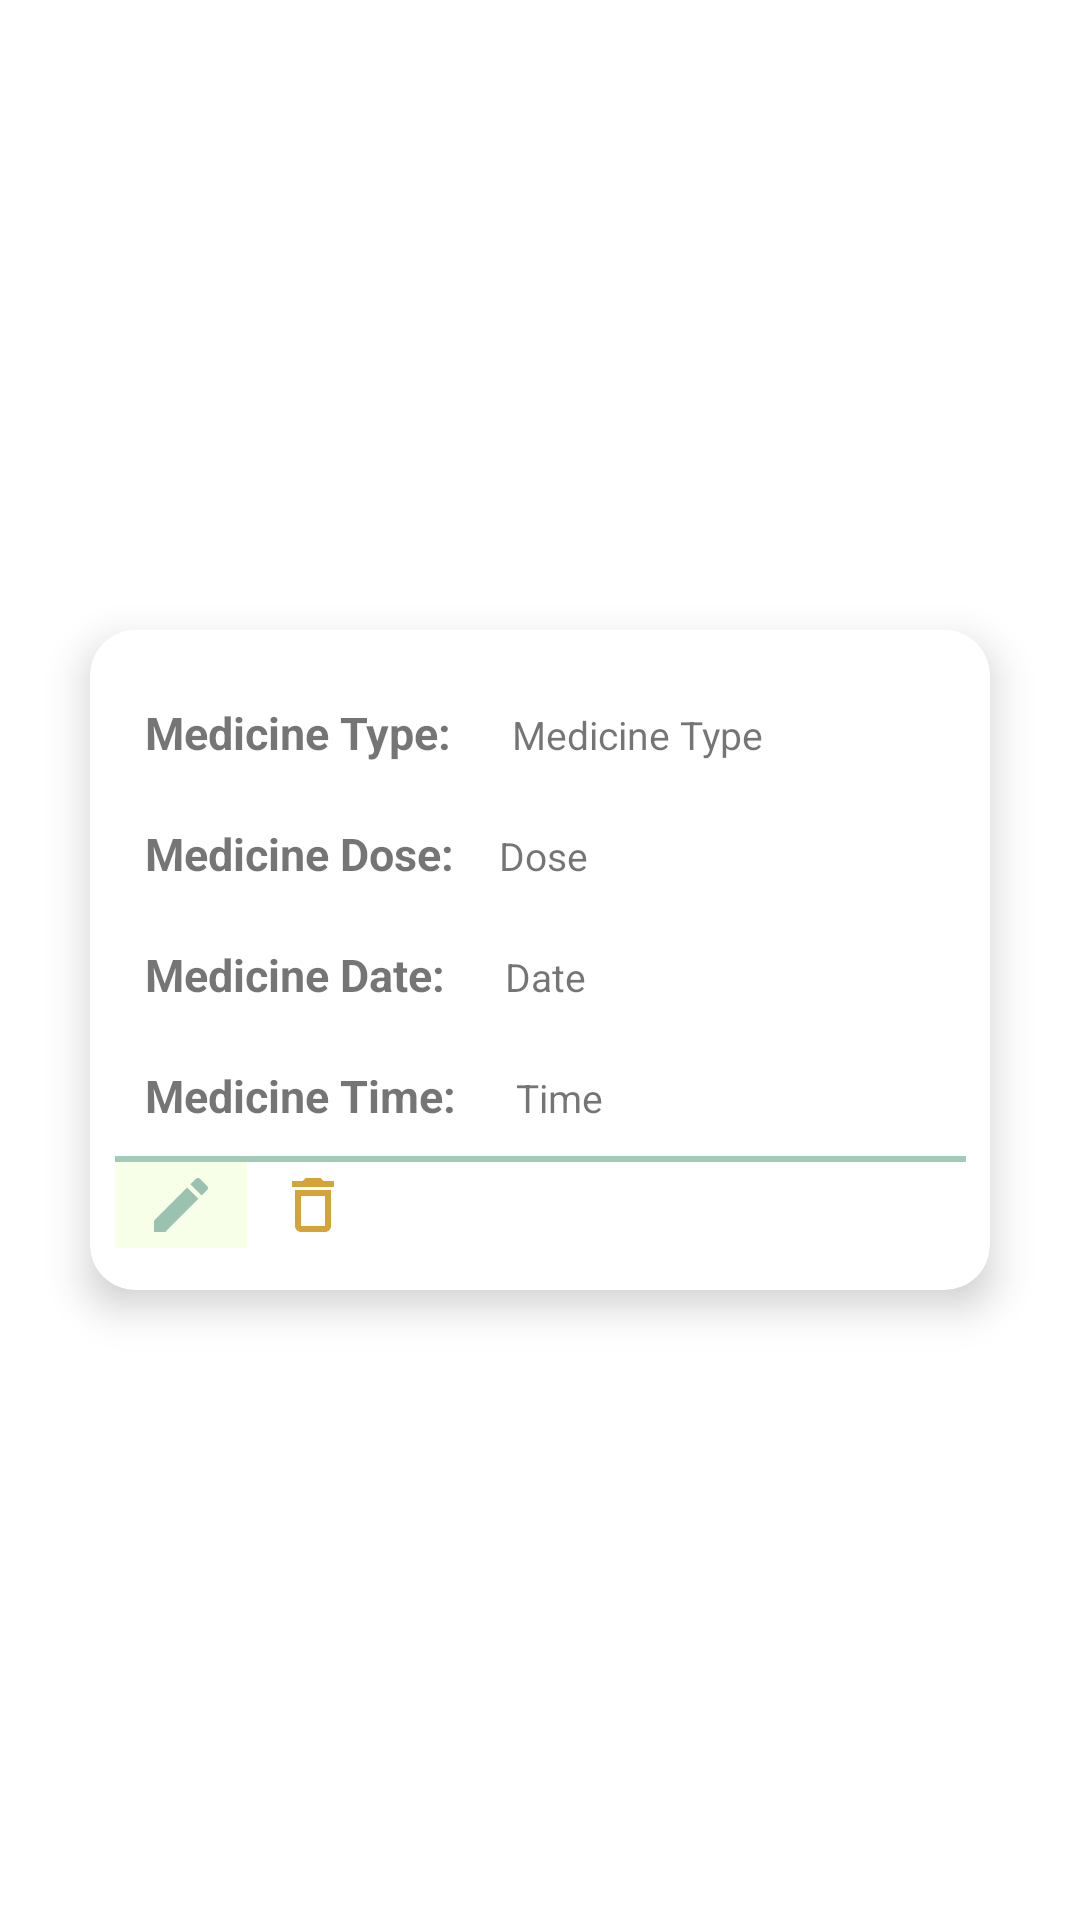

Icon bounding boxes for this 1080px x 1920px phone screenshot, format (x1, y1, x2, y2):
delete: (292, 1178, 334, 1232)
edit: (115, 1162, 247, 1248)
